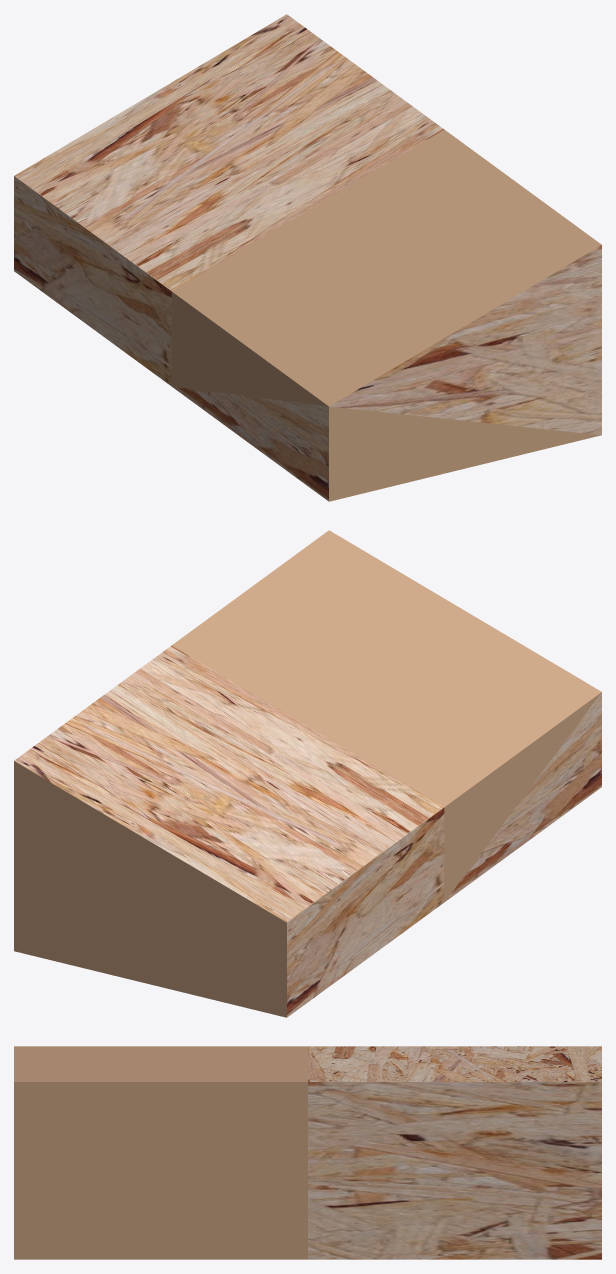
3 renders of one model, top to bottom at view 1: azimuth 30°, elevation 25°; view 2: azimuth 150°, elevation 25°; view 3: azimuth 270°, elevation 25°, orthographic. The views are drawn at different scales.
Parts seen in each view (by area): view 1: base_link; view 2: base_link; view 3: base_link.
Part boxes in pixels (box(x1,y1,x2,y2)): base_link: box(14, 14, 601, 501); base_link: box(14, 530, 601, 1017); base_link: box(14, 1046, 601, 1259).
Size of the model in its own units: 0.6 by 1.2 by 0.4.
1 material, 1 textured.
